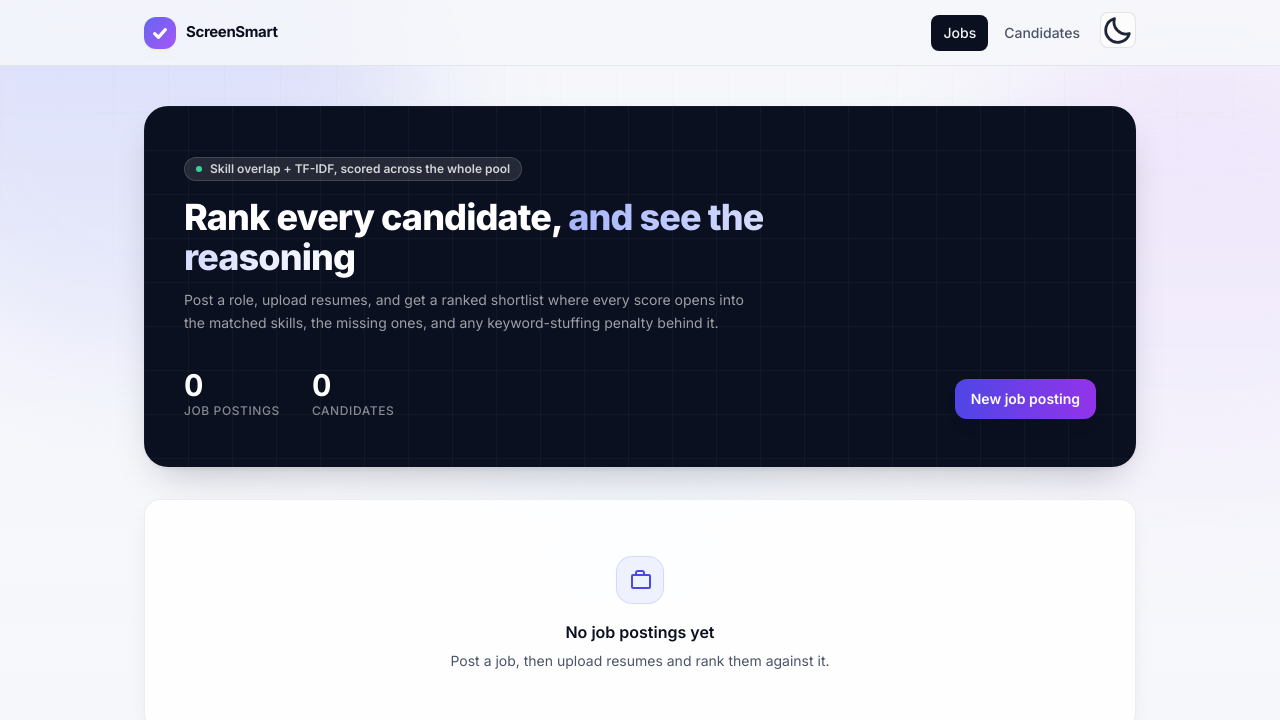
Test: App › navigates to the candidates page and back
The width and height of the screenshot is (1280, 720).
Expected: the text "No job postings yet" is shown, left=566, top=620, right=715, bottom=644
Click the link "Candidates": (1042, 32) left=1004, top=24, right=1080, bottom=40
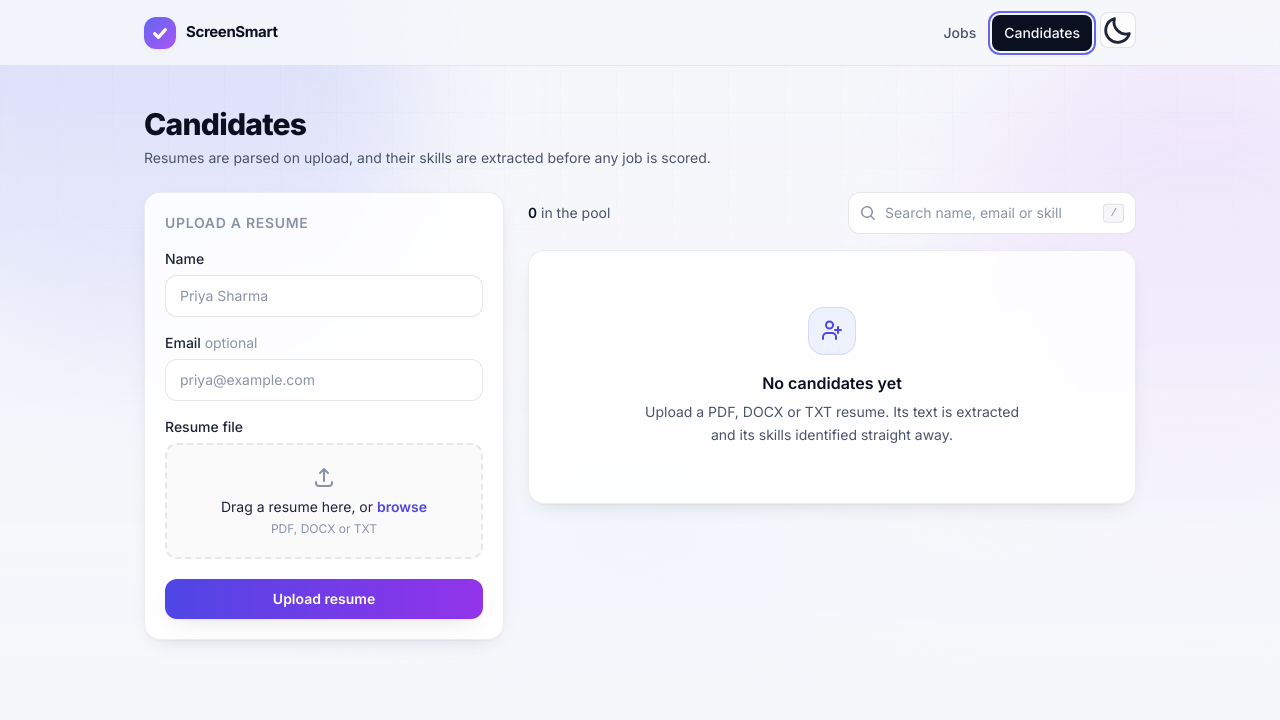
Expected: the text "No candidates yet" is shown, left=762, top=371, right=902, bottom=395
Click the link "Jobs": (960, 32) left=944, top=24, right=976, bottom=40
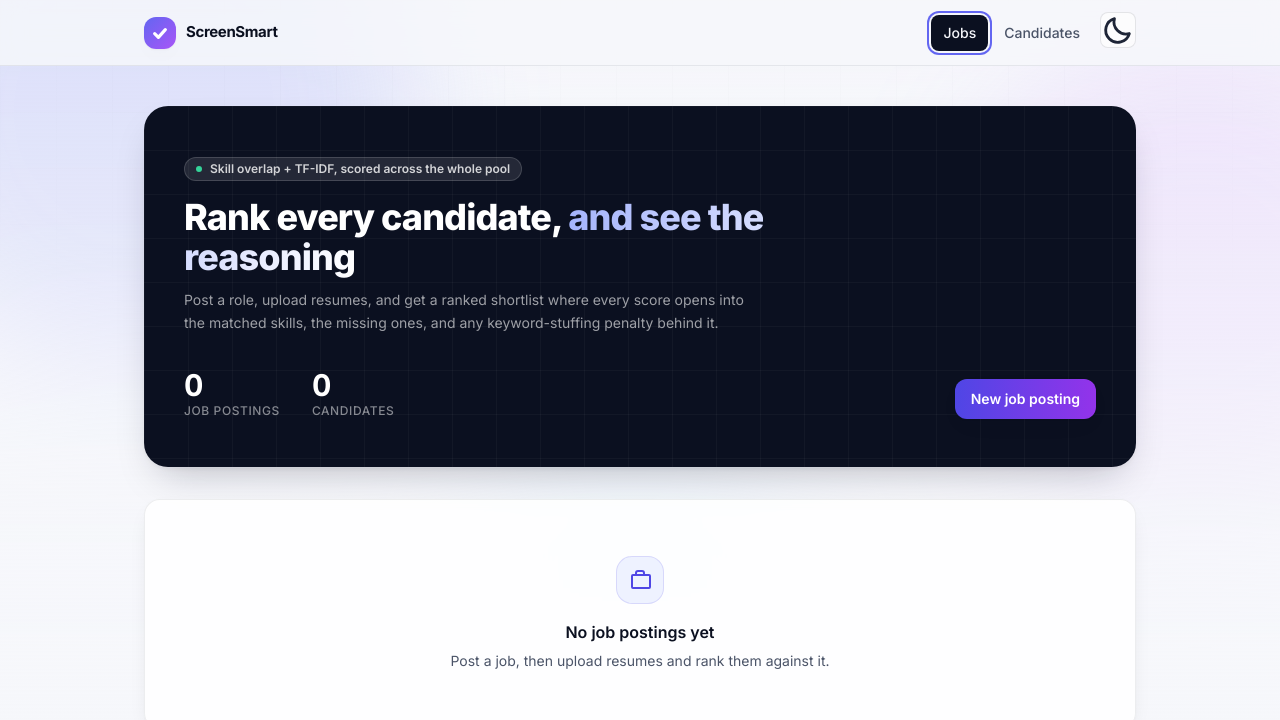
Expected: the text "No job postings yet" is shown, left=566, top=620, right=715, bottom=644
